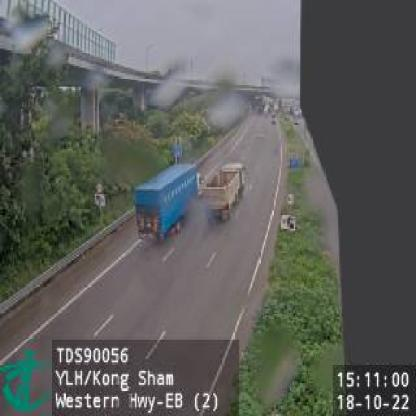Truck: (134, 161, 202, 244), (204, 159, 247, 223)
